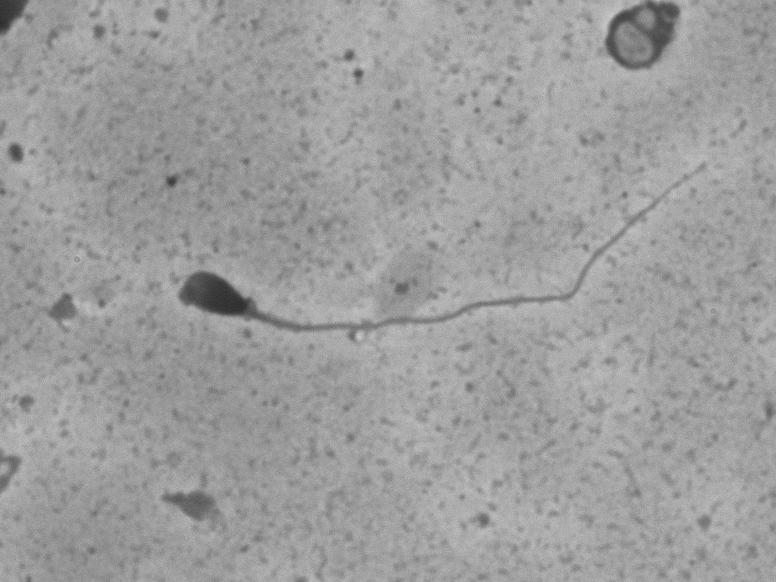Abnormal: (156, 146, 738, 381)
